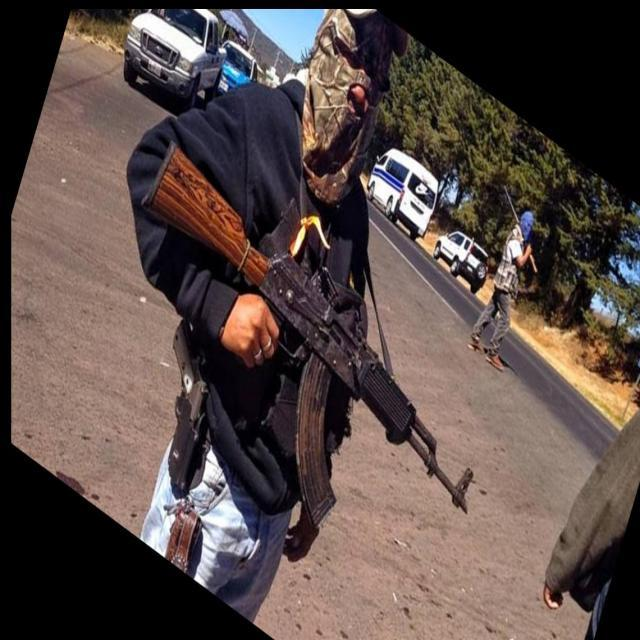weapon: (140, 144, 474, 532), (502, 185, 538, 274)
